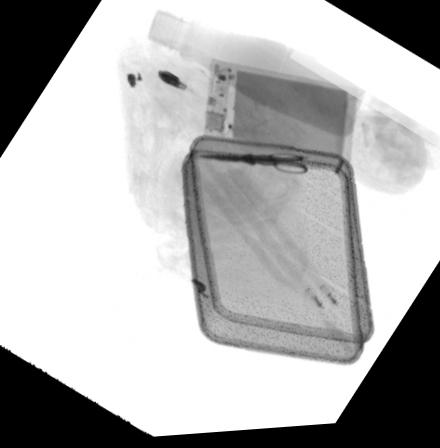Powerbank: (201, 59, 362, 175)
Scissors: (194, 153, 308, 183)
